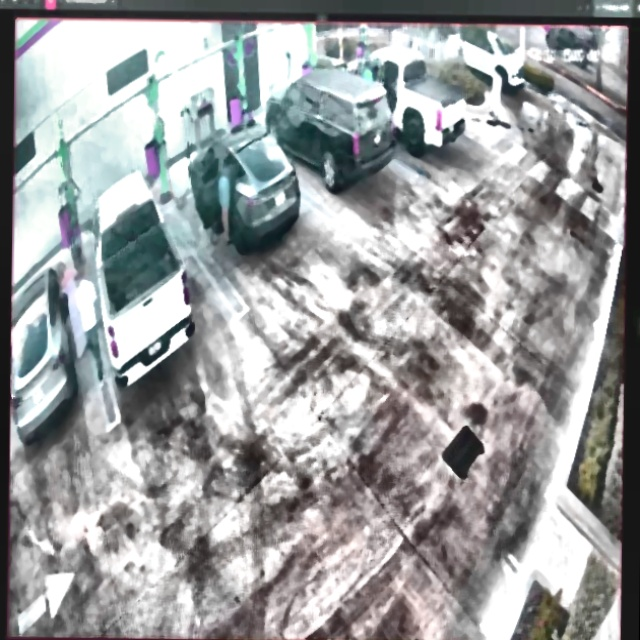Car: (89, 166, 196, 389), (266, 67, 394, 189), (190, 121, 299, 245)
